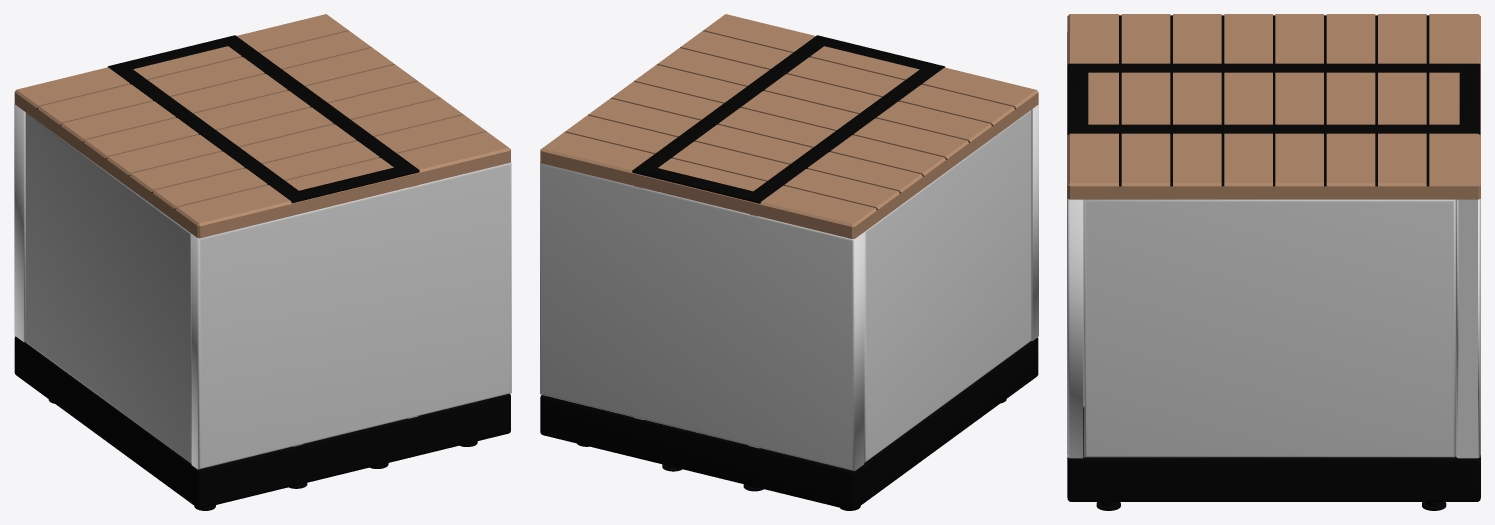
The picture shows the model from 3 angles, left to right: view 1: azimuth 30°, elevation 25°; view 2: azimuth 150°, elevation 25°; view 3: azimuth 270°, elevation 25°; orthographic projection. The views are drawn at different scales.
Visible parts, largest first — view 1: 1, 2; view 2: 1, 2; view 3: 1, 2.
Part boxes in pixels (x1=…): 1: x1=14, y1=14, x2=511, y2=510; 2: x1=108, y1=35, x2=419, y2=488; 1: x1=540, y1=14, x2=1038, y2=510; 2: x1=632, y1=35, x2=945, y2=491; 1: x1=1067, y1=14, x2=1480, y2=510; 2: x1=1067, y1=63, x2=1480, y2=407.
Size of the model in its own units: 0.4893 by 0.4502 by 0.5004.
